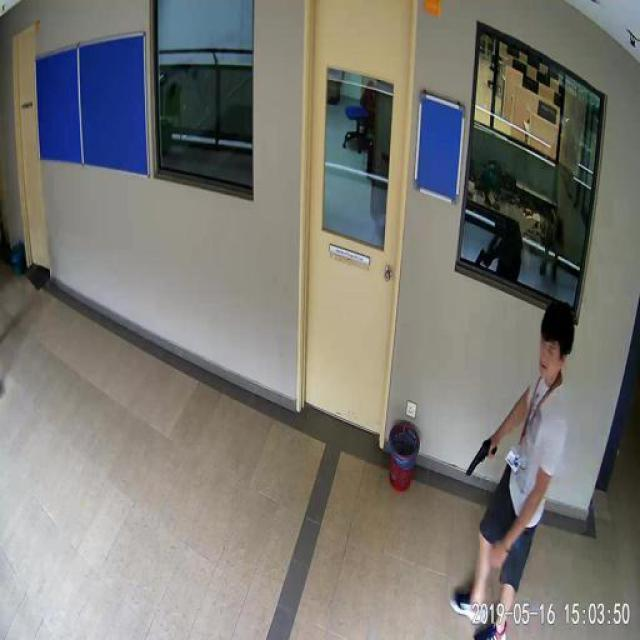weapon: (466, 438, 498, 478)
